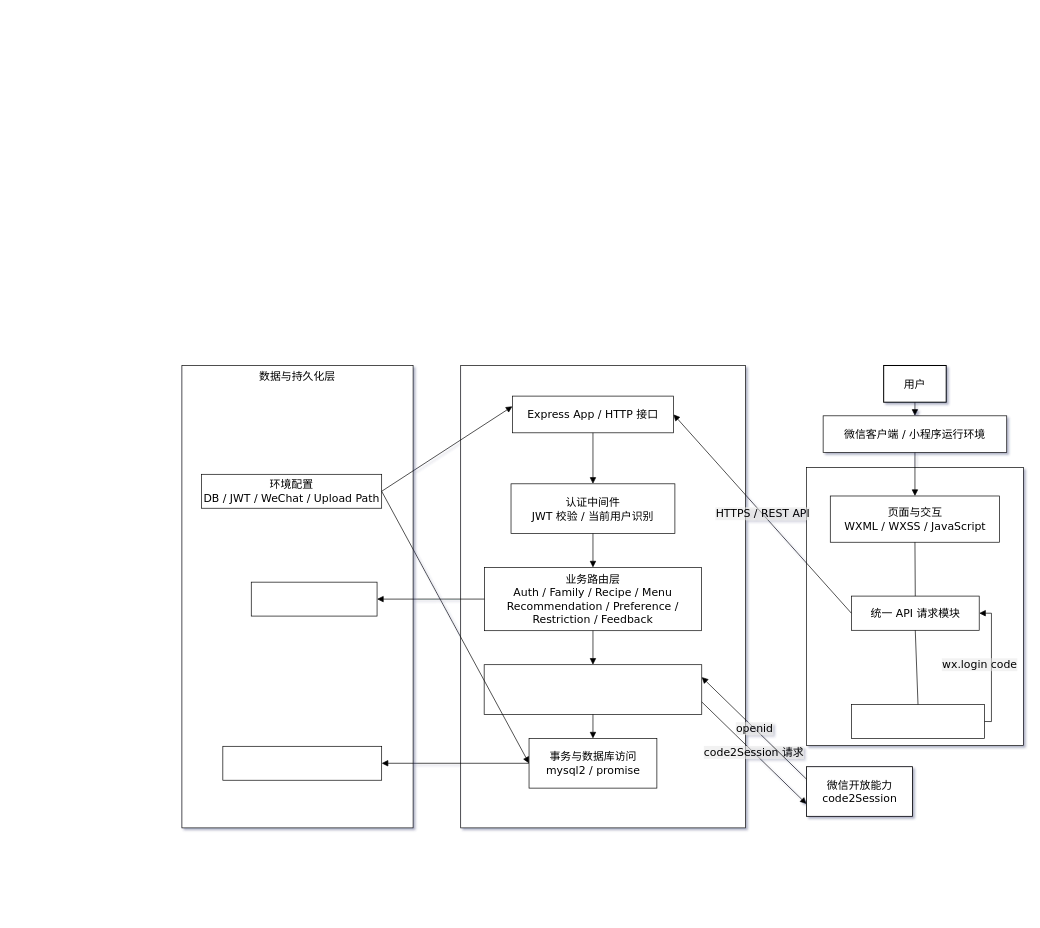
Some shapes in this 1040 by 928 pixel diagram are drawn without their labels. Each missing label, with the box of its shape:
MySQL 8.0+ 业务数据、约束、索引、事务: (222, 746, 382, 780)
Uploads 文件目录 菜谱封面图片: (251, 581, 377, 616)
业务服务层 菜单服务 / 推荐引擎与候选服务 / 微信认证服务: (483, 664, 702, 714)
客户端层：微信小程序: (806, 467, 1023, 746)
服务端层：Node.js + Express: (460, 365, 746, 828)
登录态与 JWT 管理: (851, 704, 985, 739)
